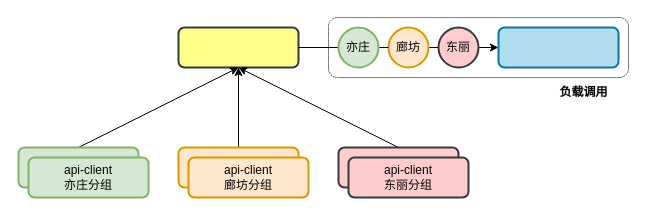
This 646x216 diagram has some shape labels left out. The shapes that lost their labels are listed below. From the top down, each one's box as (x1, y1, x2, y2) in pixels, then its label:
(177, 26, 299, 68): Eureka Server 注册中心
(497, 26, 619, 68): 接口消费者
